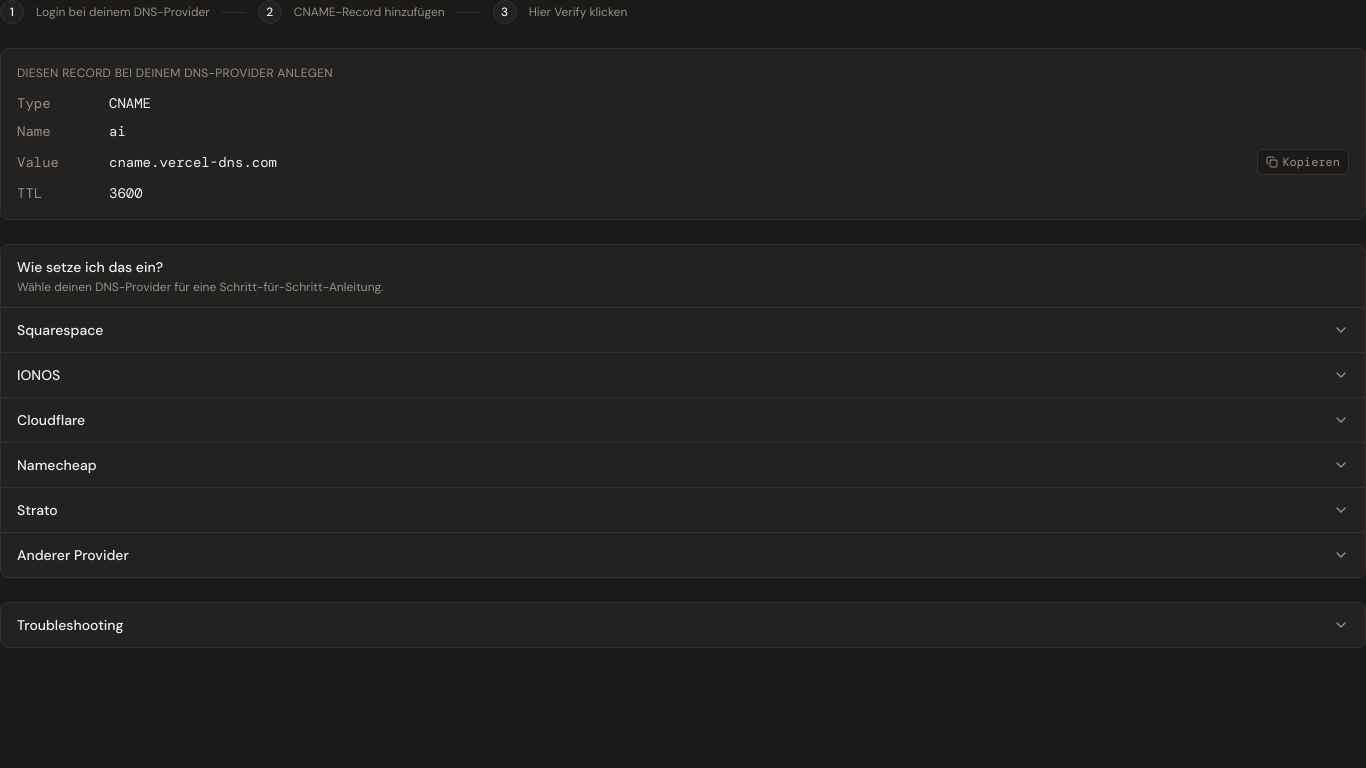
Scenario: DnsSetupInstructions › expands and collapses the troubleshooting section
Step 1. Click the button "Troubleshooting" → (70, 625), box [1,603,1365,647]
(page scrolled)
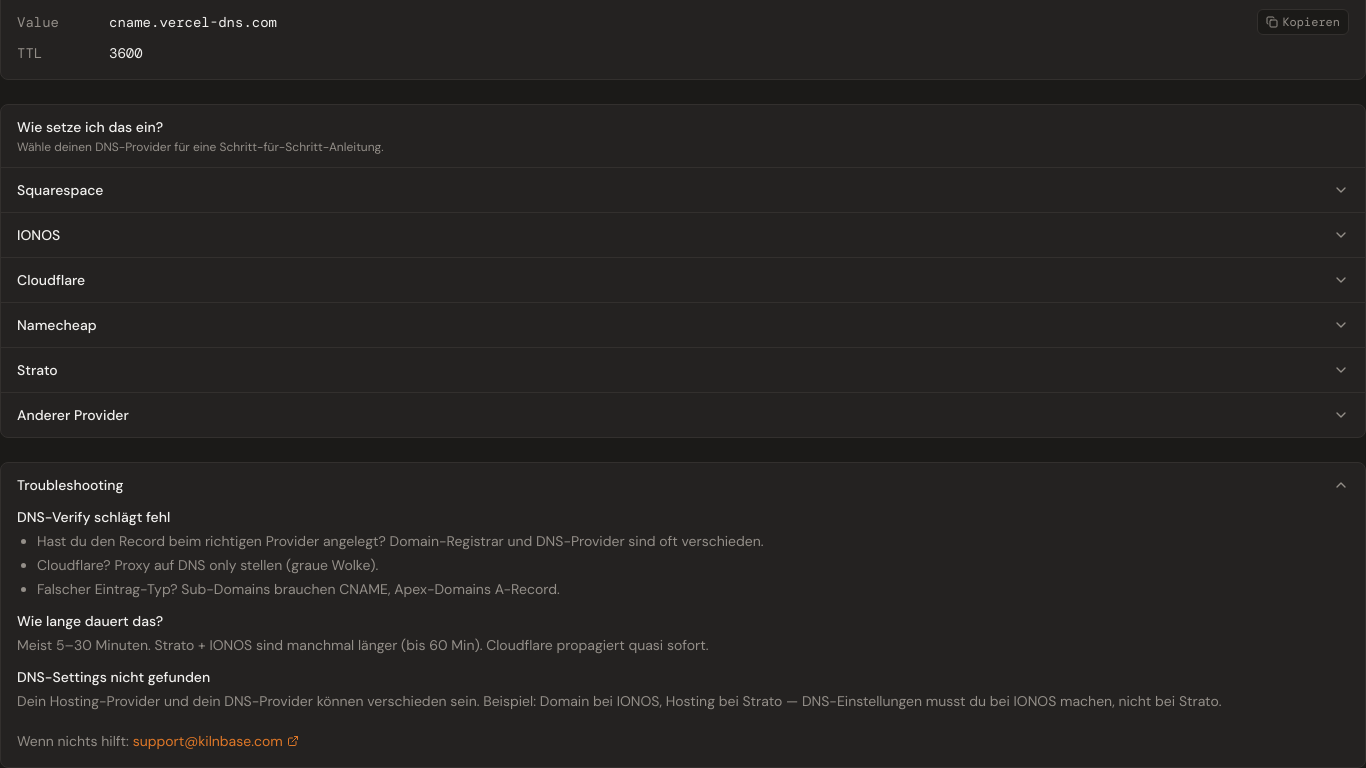
Expected: the element with test id "dns-troubleshooting-content" is shown, [1,507,1365,767]
